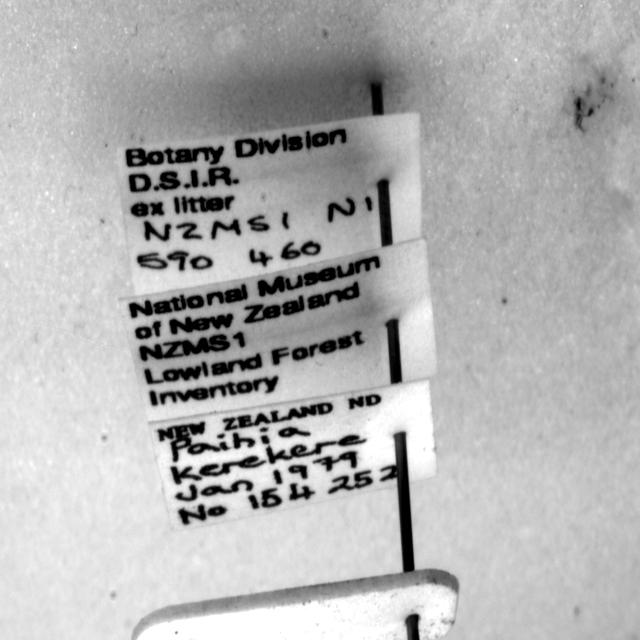mixed_label: (118, 112, 421, 294), (150, 381, 436, 529)
typed_label: (120, 240, 436, 422)
